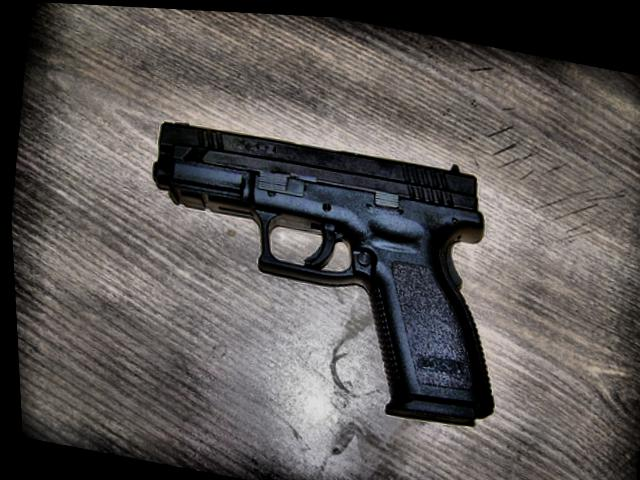pistol: (117, 105, 523, 435)
